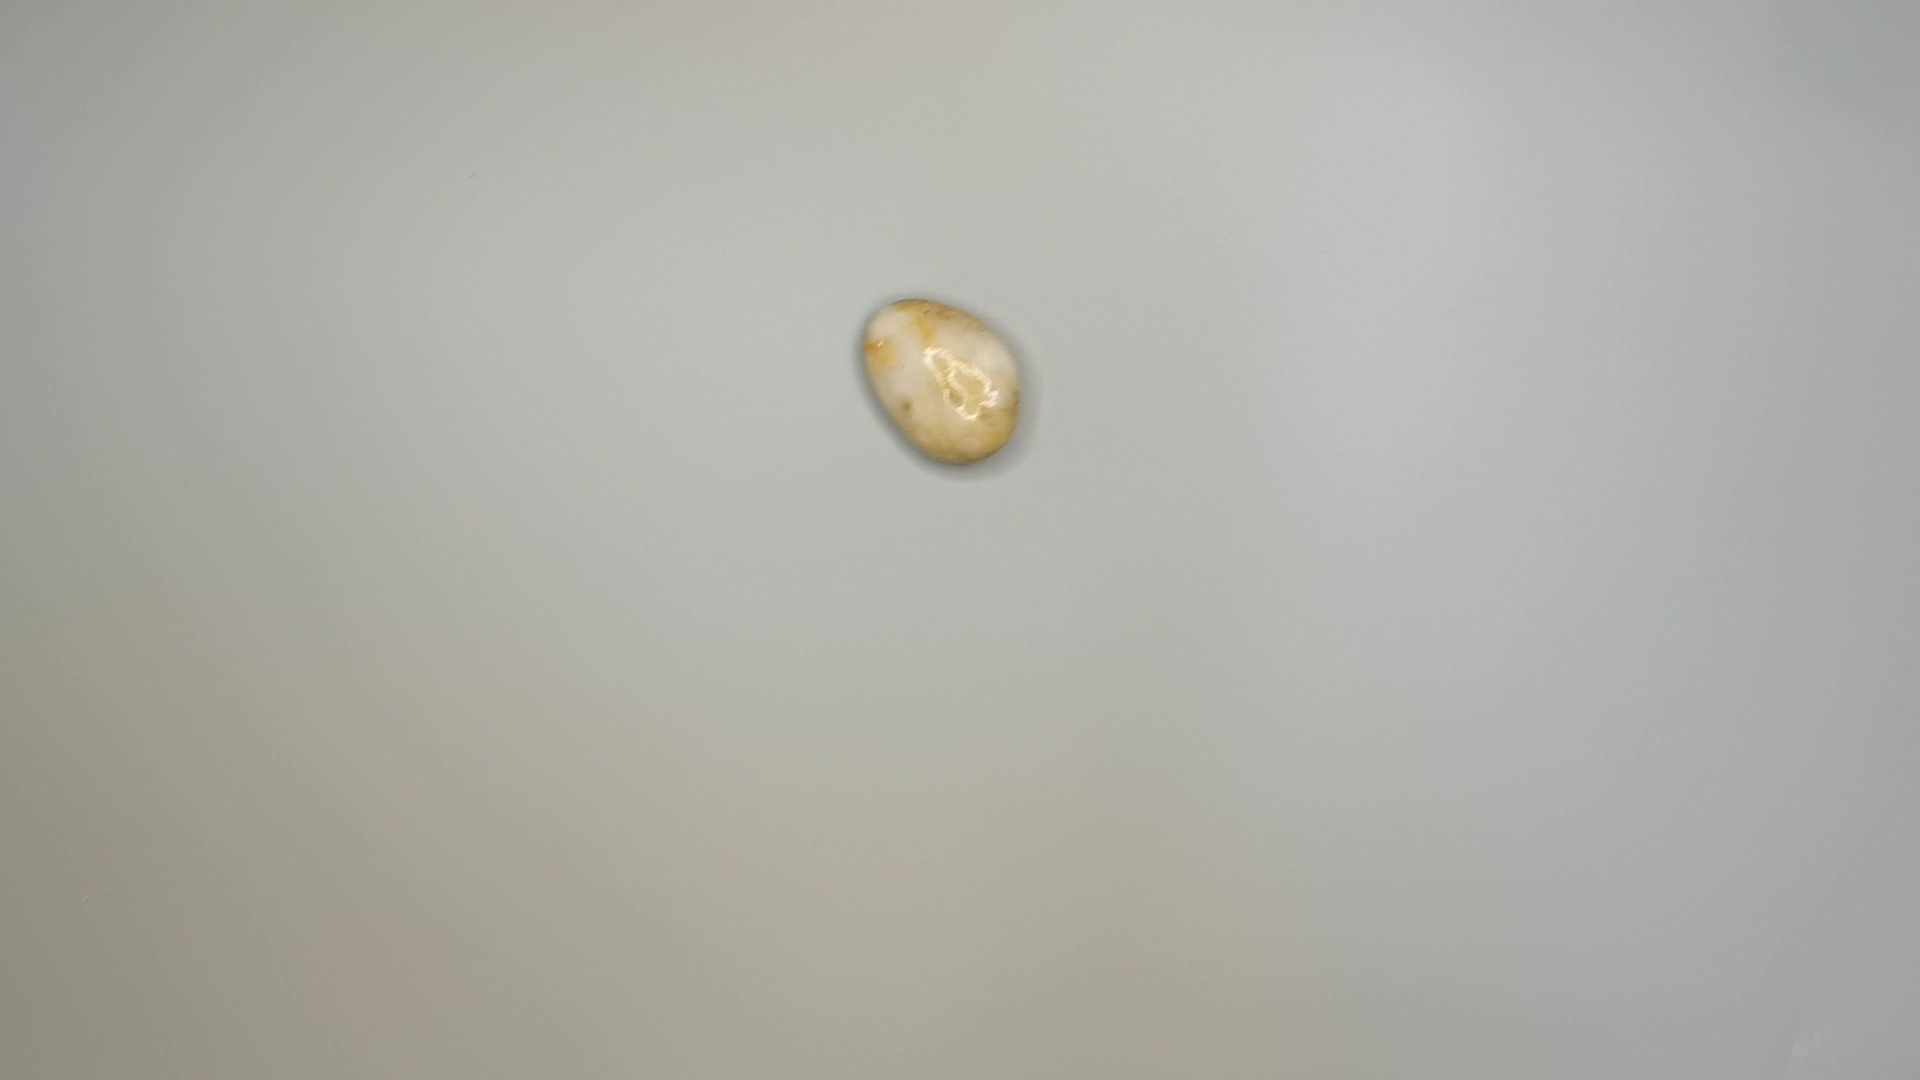ceramic: (840, 293, 1047, 483)
